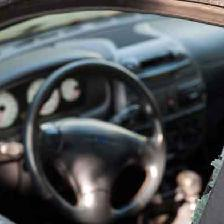glass_shatter: (110, 121, 224, 223)
